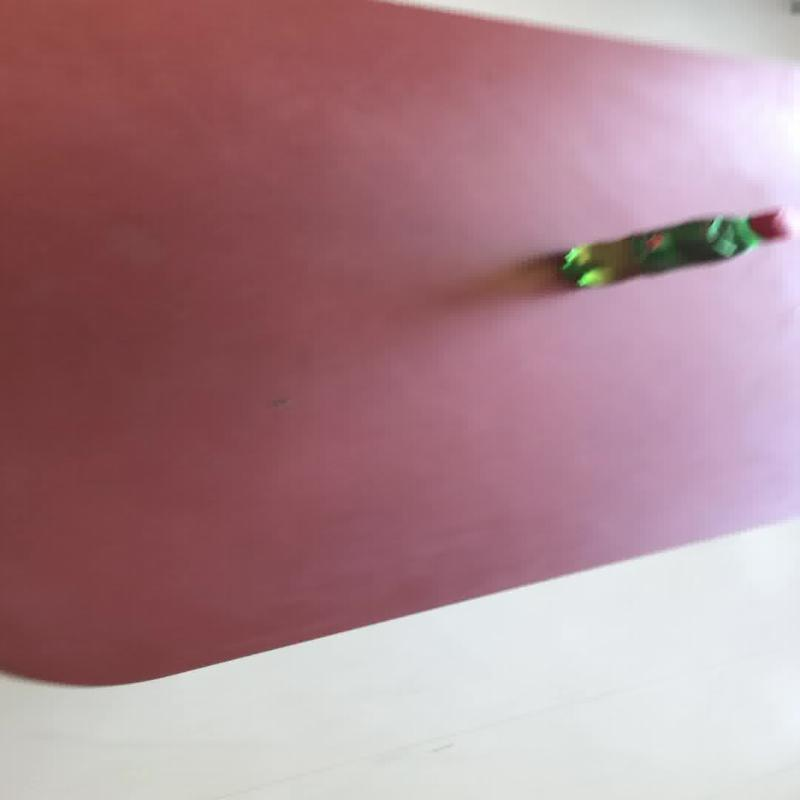guarana: (554, 206, 788, 290)
